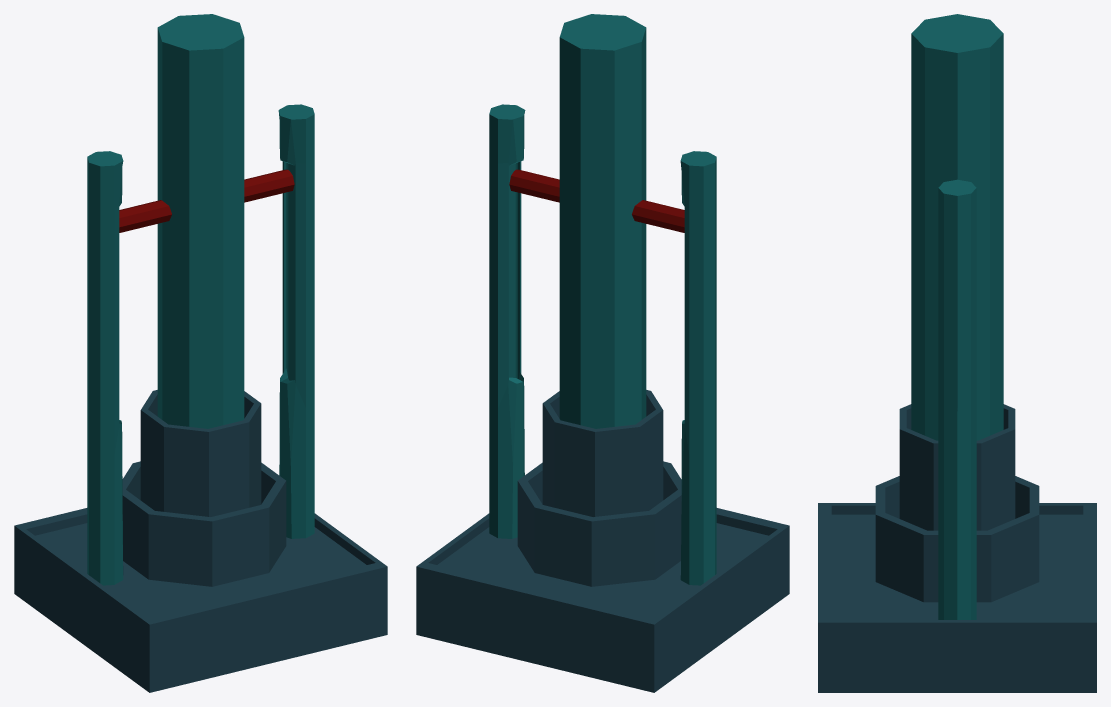
File: towerFarm2lvl.fbx
3 views of the same model, side by side, from view 1: azimuth 30°, elevation 25°; view 2: azimuth 150°, elevation 25°; view 3: azimuth 270°, elevation 25° (orthographic). The views are drawn at different scales.
Visible parts, largest first — view 1: Cube.022, Cylinder.010, Cylinder.012, Cylinder.008, Cylinder.009, Cylinder.013; view 2: Cube.022, Cylinder.010, Cylinder.012, Cylinder.008, Cylinder.009, Cylinder.013; view 3: Cube.022, Cylinder.010, Cylinder.012, Cylinder.008, Cylinder.009.
Part boxes in pixels (x1,y1,x2,y2): Cube.022: (14, 508, 387, 692); Cylinder.010: (157, 14, 244, 428); Cylinder.012: (87, 104, 314, 585); Cylinder.008: (122, 461, 286, 586); Cylinder.009: (140, 390, 261, 516); Cylinder.013: (119, 169, 294, 232); Cube.022: (416, 508, 789, 692); Cylinder.010: (559, 14, 646, 428); Cylinder.012: (489, 104, 716, 585); Cylinder.008: (517, 461, 681, 586); Cylinder.009: (542, 390, 663, 516); Cylinder.013: (509, 169, 684, 232); Cube.022: (818, 503, 1096, 692); Cylinder.010: (911, 14, 1003, 440); Cylinder.012: (938, 179, 976, 619); Cylinder.008: (875, 476, 1039, 602); Cylinder.009: (899, 404, 1015, 530).
Bounding box in the file's own units: 195 × 455 × 192.
